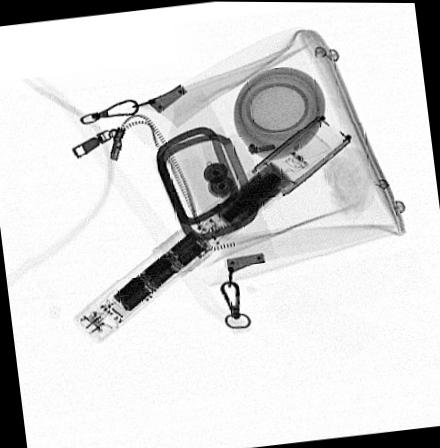Baton: (72, 113, 352, 342)
